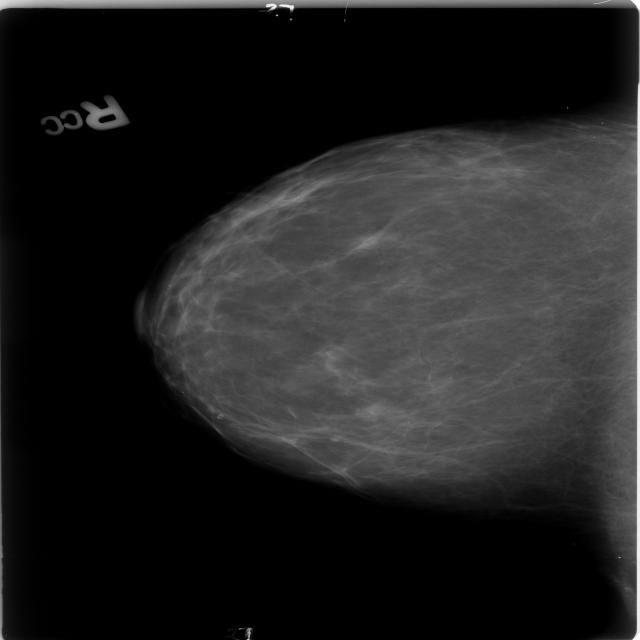normal: (150, 134, 640, 518)
